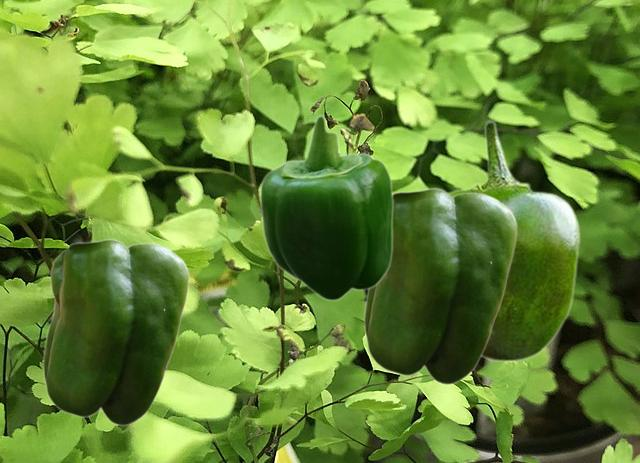bell_pepper: (446, 119, 580, 362), (363, 187, 517, 384), (42, 238, 189, 425), (258, 114, 393, 301)
